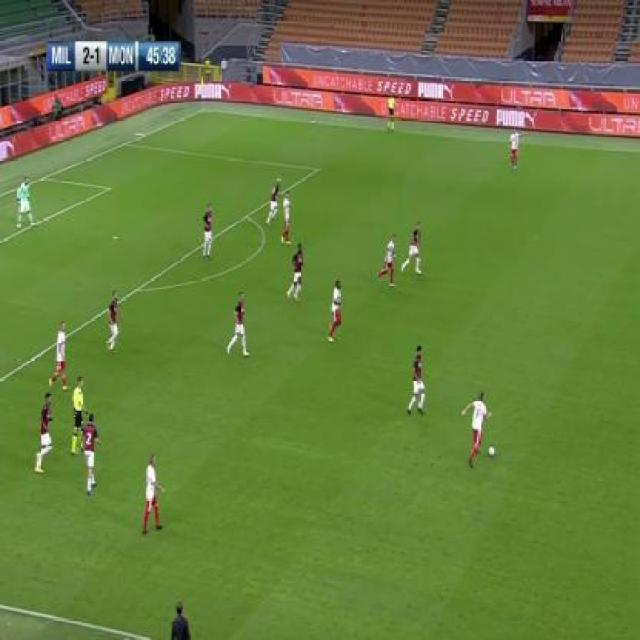ball: (489, 445, 497, 458)
player: (461, 390, 490, 464), (33, 393, 56, 475), (142, 453, 165, 533), (83, 413, 103, 493), (226, 290, 249, 358), (406, 346, 428, 417), (69, 374, 88, 454), (49, 319, 69, 392), (402, 222, 424, 276), (376, 233, 398, 287), (15, 173, 35, 230), (326, 278, 343, 343), (104, 290, 121, 353), (286, 246, 303, 303), (171, 598, 193, 640), (265, 176, 281, 227), (201, 202, 214, 261), (280, 189, 293, 246), (509, 128, 520, 171), (386, 93, 397, 133)
